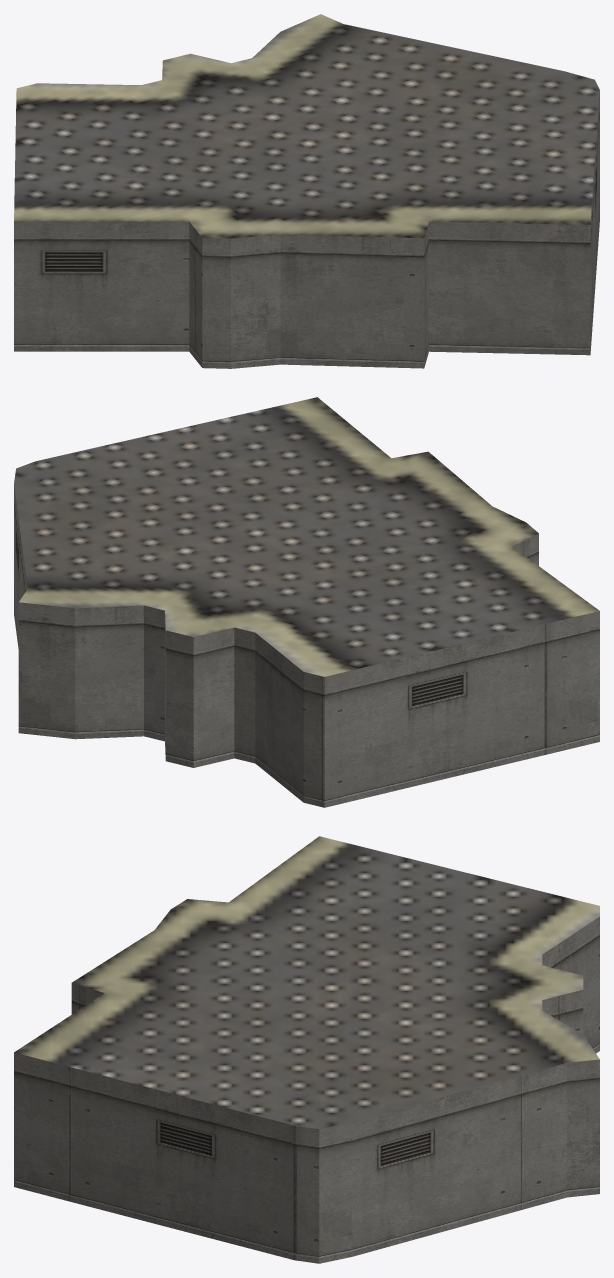
Rendered from building_medium_a_38.glb.
3 views of the same model, one above another, from view 1: azimuth 30°, elevation 25°; view 2: azimuth 150°, elevation 25°; view 3: azimuth 270°, elevation 25° (orthographic). The views are drawn at different scales.
Parts seen in each view (by area): view 1: buildings/saxarba/building_medium/building_medium_a_38; view 2: buildings/saxarba/building_medium/building_medium_a_38; view 3: buildings/saxarba/building_medium/building_medium_a_38.
Boxes of the visible parts, box(x1,y1,x2,y2) form: buildings/saxarba/building_medium/building_medium_a_38: box(14, 14, 599, 368); buildings/saxarba/building_medium/building_medium_a_38: box(14, 397, 599, 807); buildings/saxarba/building_medium/building_medium_a_38: box(14, 836, 599, 1263).
Size of the model in its own units: 84 by 18 by 71.
